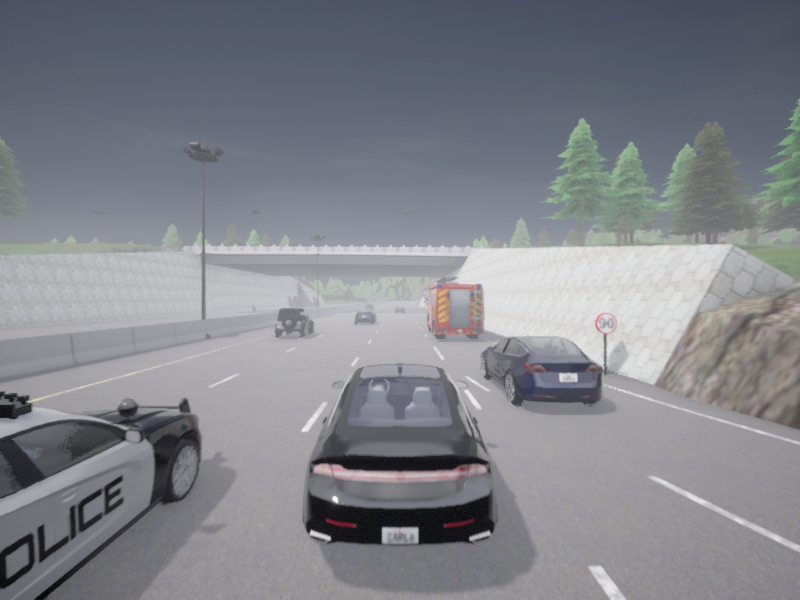vehicle: (0, 391, 201, 599), (303, 364, 497, 545), (481, 336, 602, 404), (423, 276, 483, 337), (275, 308, 313, 336), (355, 309, 376, 323), (395, 306, 404, 312), (365, 304, 373, 309)
